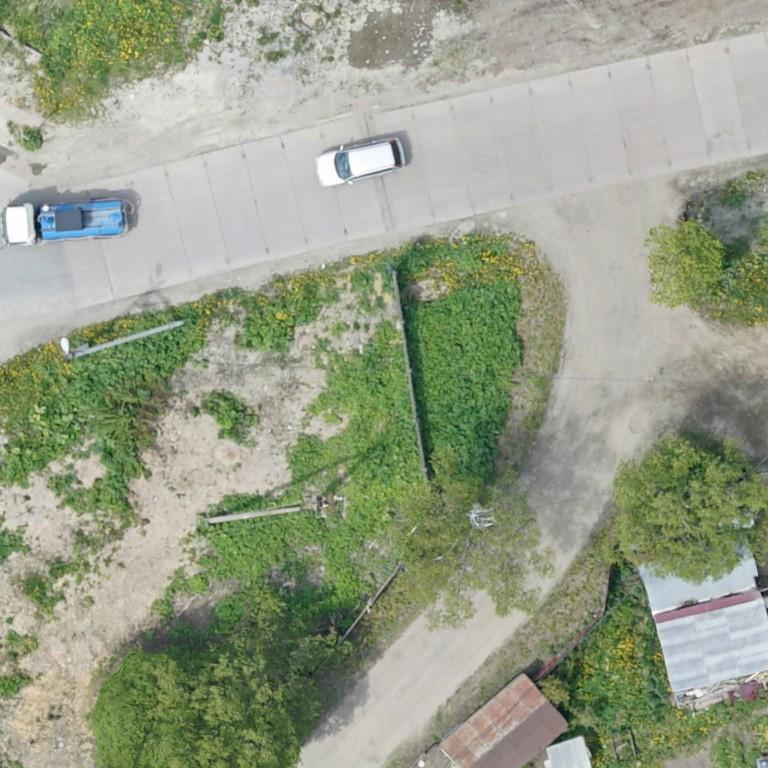hogweed: (406, 279, 522, 482), (35, 326, 196, 432), (98, 455, 125, 508)
